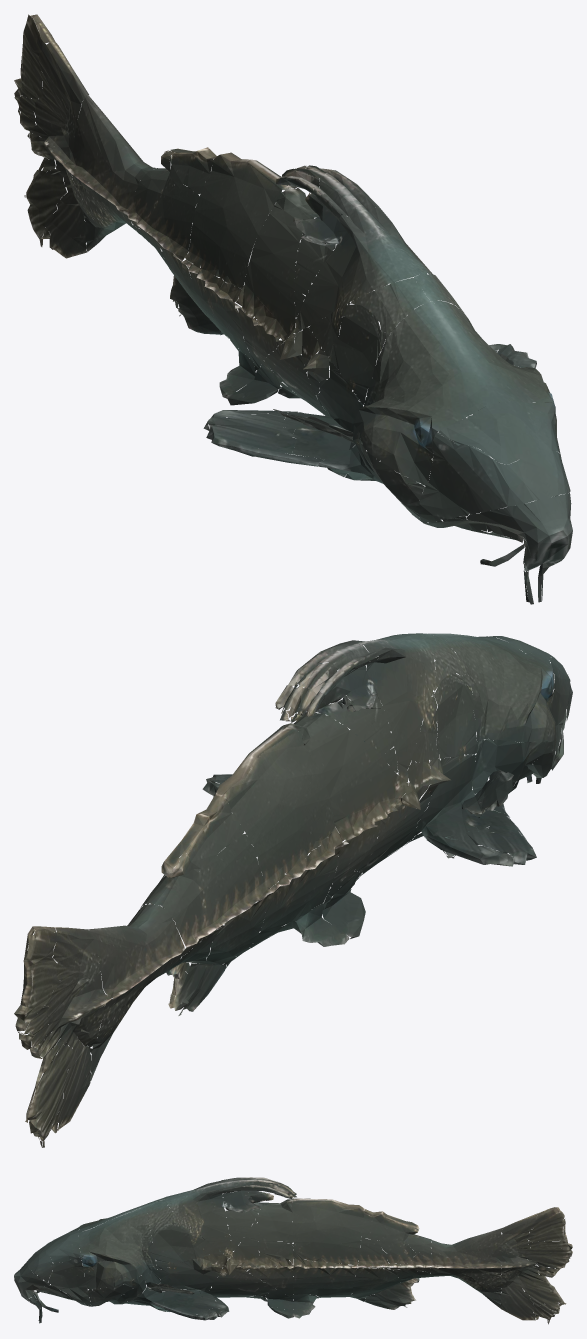
The model's file is armado_chancho.glb.
3 renders of one model, top to bottom at view 1: azimuth 30°, elevation 25°; view 2: azimuth 150°, elevation 25°; view 3: azimuth 270°, elevation 25°, orthographic. The views are drawn at different scales.
Visible parts, largest first — view 1: tripo_node_6c08d82a-2cc8-4d44-8eab-912298eca7a3; view 2: tripo_node_6c08d82a-2cc8-4d44-8eab-912298eca7a3; view 3: tripo_node_6c08d82a-2cc8-4d44-8eab-912298eca7a3.
Part boxes in pixels (x1,y1,x2,y2): tripo_node_6c08d82a-2cc8-4d44-8eab-912298eca7a3: (14, 14, 572, 604); tripo_node_6c08d82a-2cc8-4d44-8eab-912298eca7a3: (14, 633, 572, 1147); tripo_node_6c08d82a-2cc8-4d44-8eab-912298eca7a3: (14, 1177, 572, 1324).
Size of the model in its own units: 0.3472 by 0.2855 by 0.9996.
Materials: 1 (1 with a texture image).
